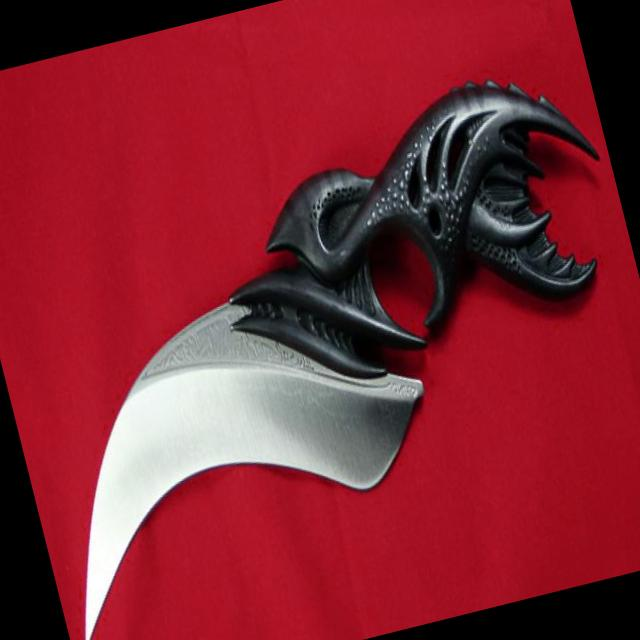Knife: (85, 81, 597, 638)
